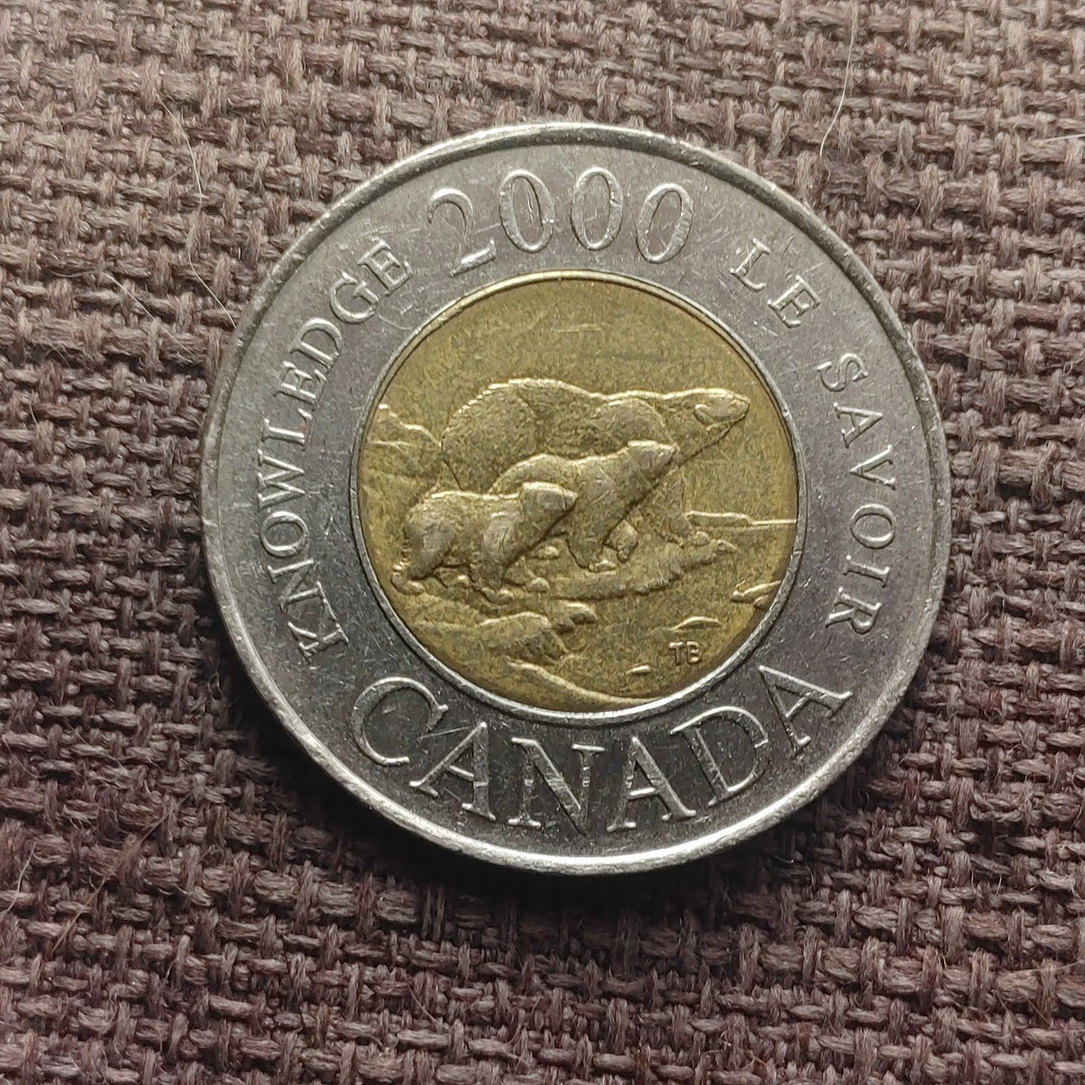coin: (203, 125, 947, 872)
